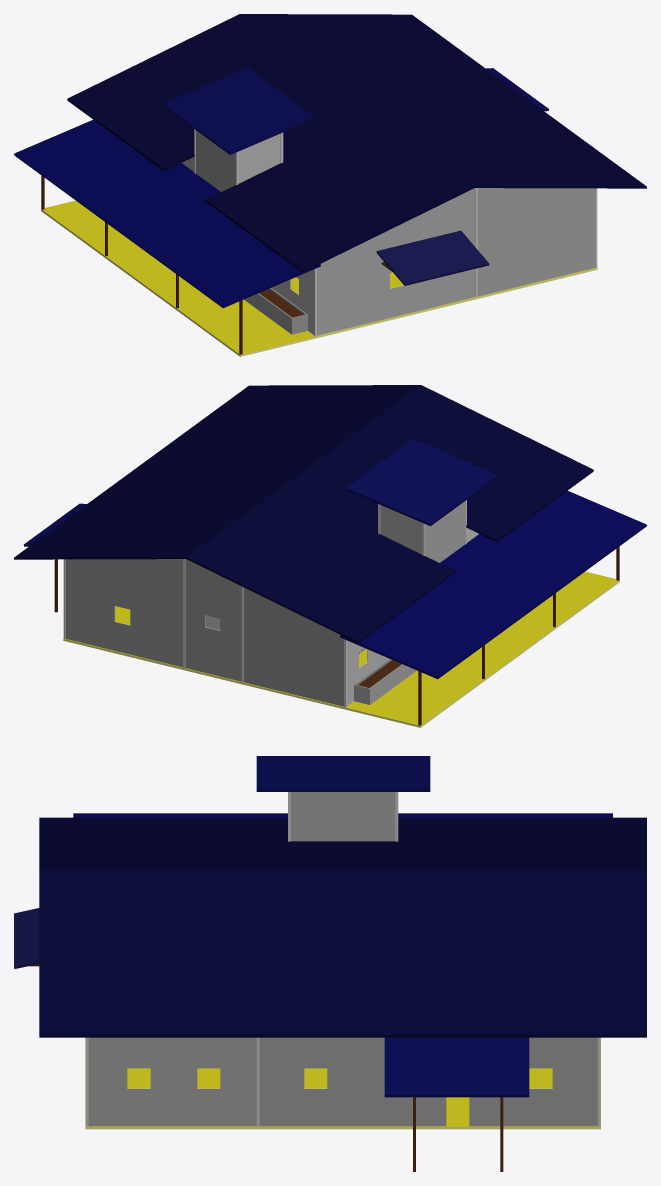
Rendered from Casa C2-03.fbx.
3 views of the same model, one above another, from view 1: azimuth 30°, elevation 25°; view 2: azimuth 150°, elevation 25°; view 3: azimuth 270°, elevation 25° (orthographic). The views are drawn at different scales.
Visible parts, largest first — view 1: Cubo.001; view 2: Cubo.001; view 3: Cubo.001.
Boxes of the visible parts, x1=… form: Cubo.001: x1=14, y1=14, x2=646, y2=356; Cubo.001: x1=14, y1=385, x2=646, y2=727; Cubo.001: x1=14, y1=756, x2=646, y2=1171.
Bounding box in the file's own units: 3754 × 1346 × 3563.
